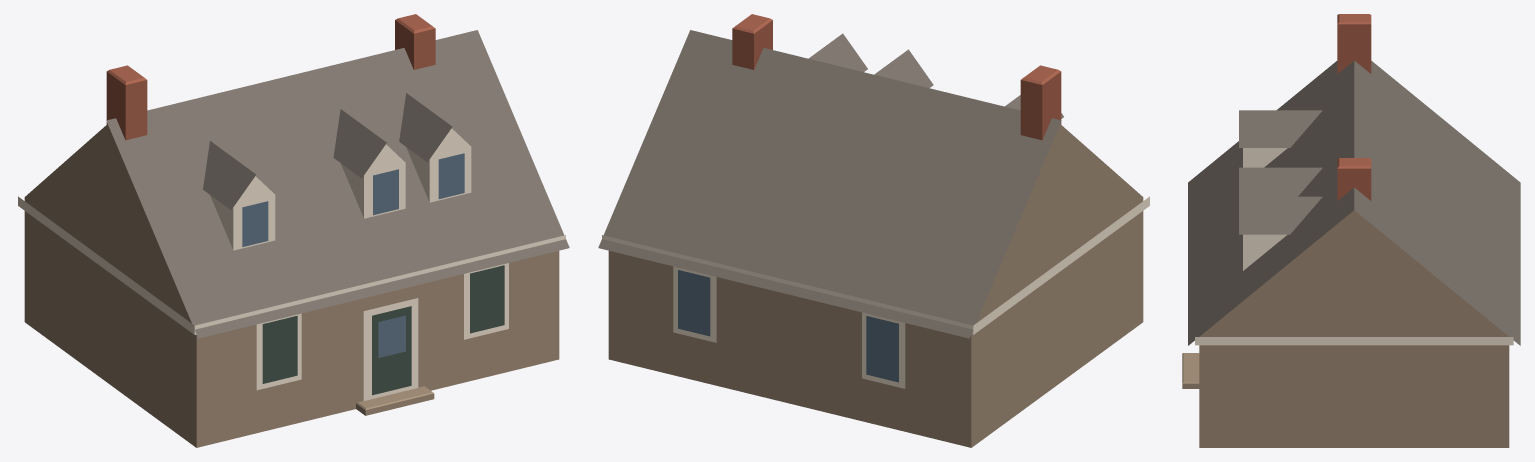
The model's file is ric-poe-museum.glb.
The picture shows the model from 3 angles, left to right: view 1: azimuth 30°, elevation 25°; view 2: azimuth 150°, elevation 25°; view 3: azimuth 270°, elevation 25°; orthographic projection. The views are drawn at different scales.
Visible parts, largest first — view 1: Edgar Allan Poe Museum (Old Stone House); view 2: Edgar Allan Poe Museum (Old Stone House); view 3: Edgar Allan Poe Museum (Old Stone House).
Part boxes in pixels (box(x1,y1,x2,y2)): Edgar Allan Poe Museum (Old Stone House): box(18, 14, 569, 447); Edgar Allan Poe Museum (Old Stone House): box(598, 14, 1149, 447); Edgar Allan Poe Museum (Old Stone House): box(1182, 14, 1520, 447).
Bounding box in the file's own units: 10.24 × 8.1 × 8.95.
